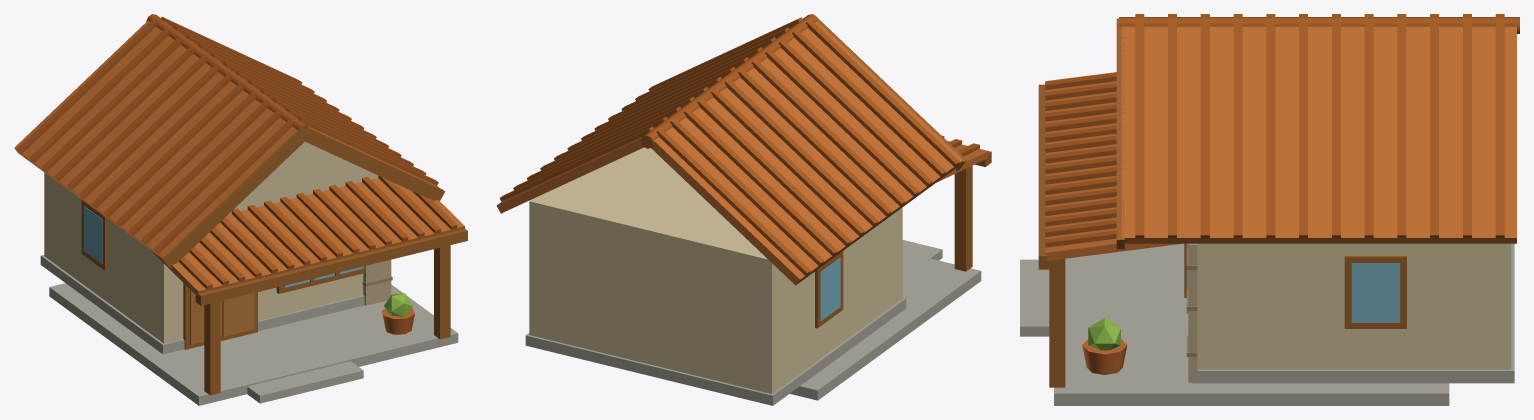
The model's file is house_orange.glb.
3 renders of one model, left to right at view 1: azimuth 30°, elevation 25°; view 2: azimuth 150°, elevation 25°; view 3: azimuth 270°, elevation 25°, orthographic. The views are drawn at different scales.
Visible parts, largest first — view 1: house_mesh; view 2: house_mesh; view 3: house_mesh.
Boxes of the visible parts, x1,y1,x2,y2 form: house_mesh: (14, 14, 467, 405); house_mesh: (496, 14, 991, 405); house_mesh: (1020, 14, 1519, 405).
Size of the model in its own units: 3.81 by 2.99 by 4.43.
